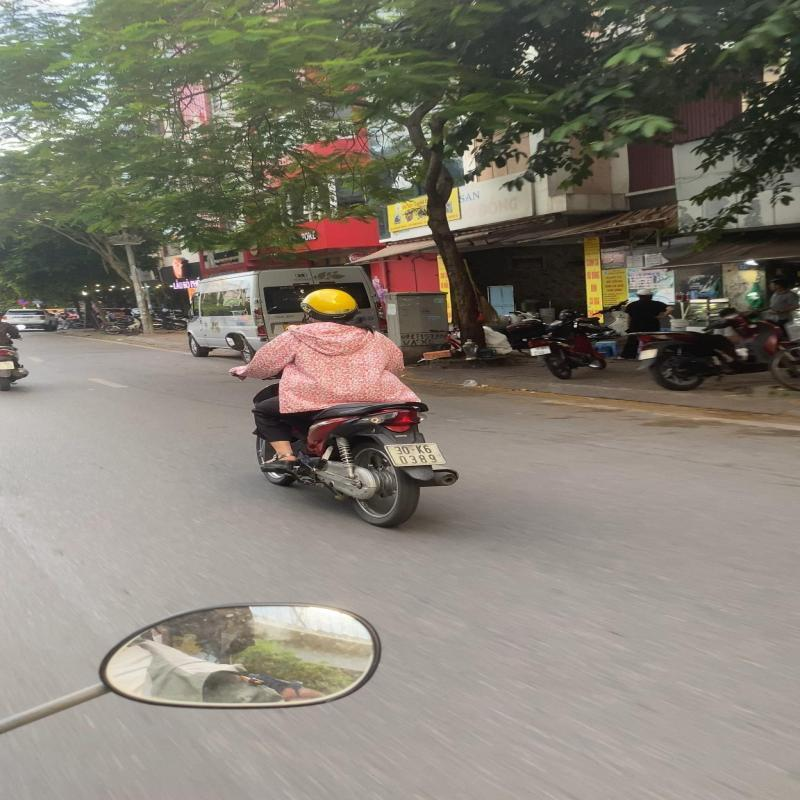helmet: (299, 288, 357, 318)
licenseplate: (381, 442, 447, 468)
motorcyclist: (218, 283, 466, 530)
